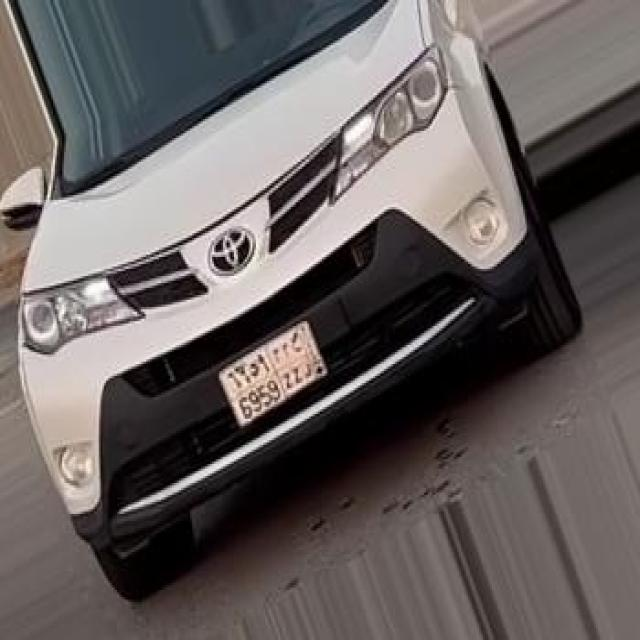Car-plate: (199, 300, 346, 454)
